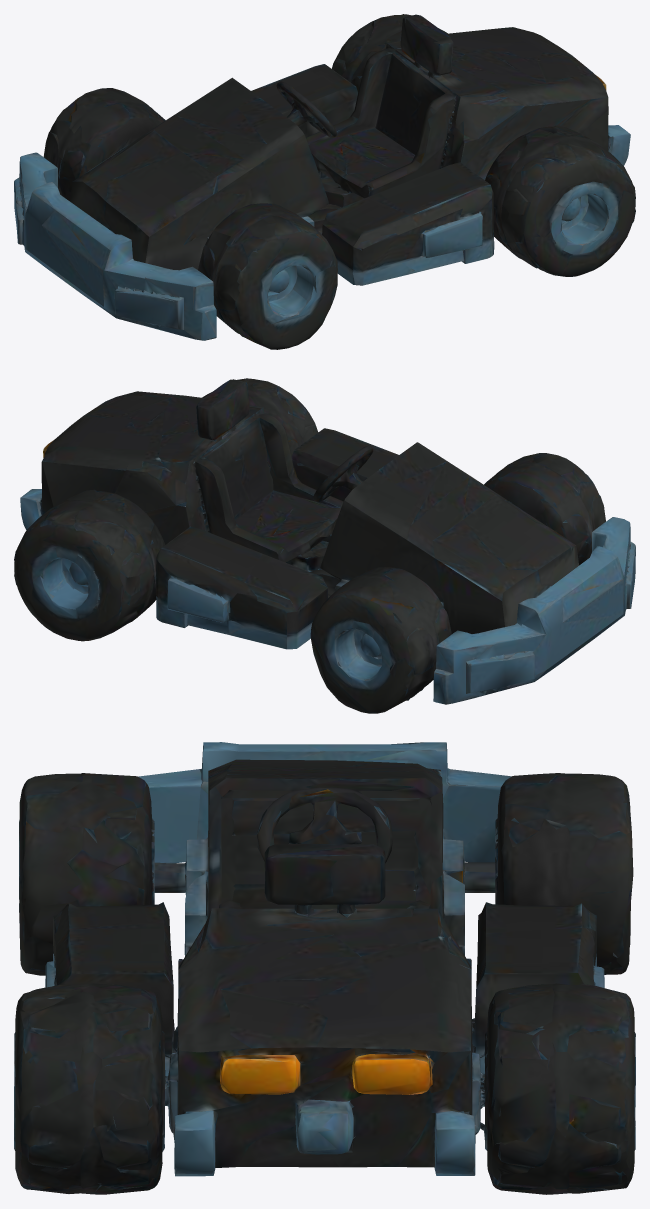
Rendered from cold-wallet.glb.
3 views of the same model, one above another, from view 1: azimuth 30°, elevation 25°; view 2: azimuth 150°, elevation 25°; view 3: azimuth 270°, elevation 25° (orthographic). The views are drawn at different scales.
Size of the model in its own units: 1.9 by 0.6695 by 1.28.
Materials: 1 (1 with a texture image).
